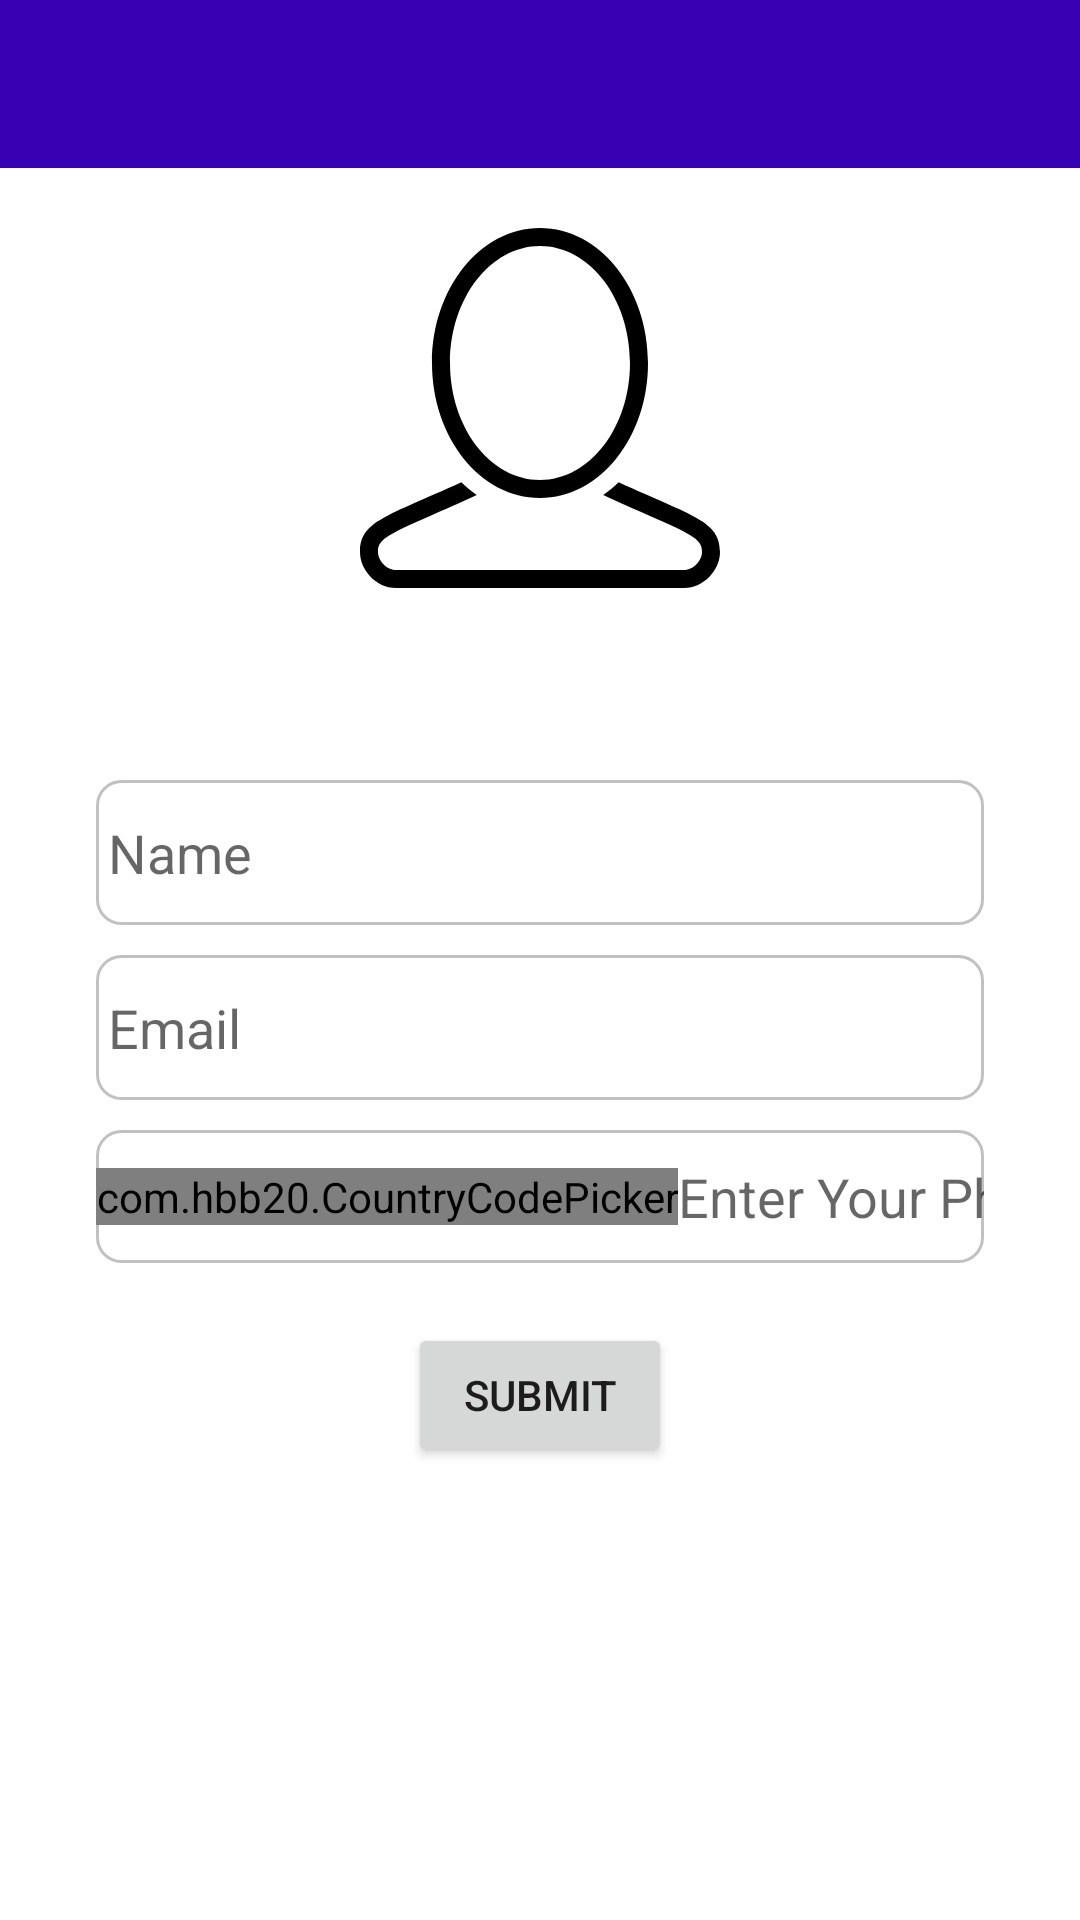

Named icons in this screenshot (1080 x 1920) and their centers, (x,y):
profile: (540,408)
